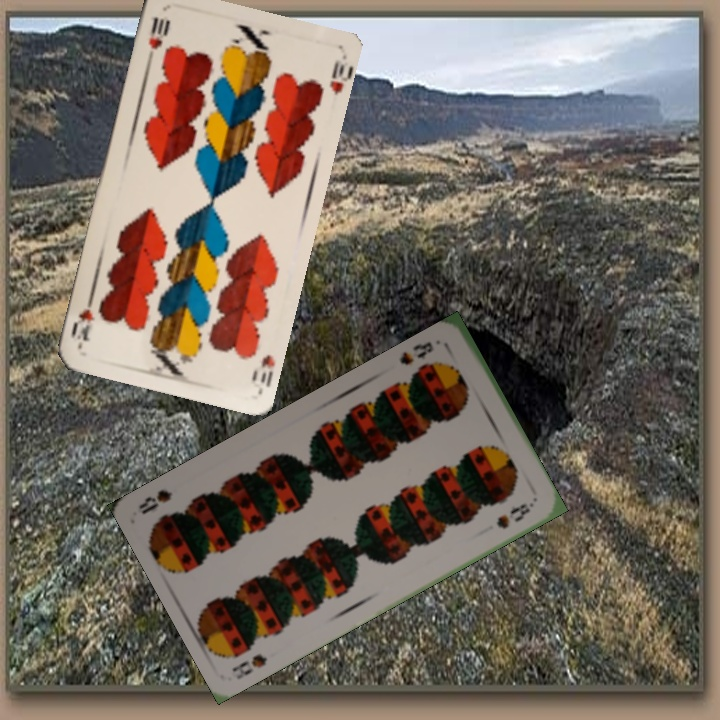H10: (143, 13, 171, 67), (256, 350, 278, 390)
S8: (227, 649, 270, 682), (395, 337, 436, 368)
